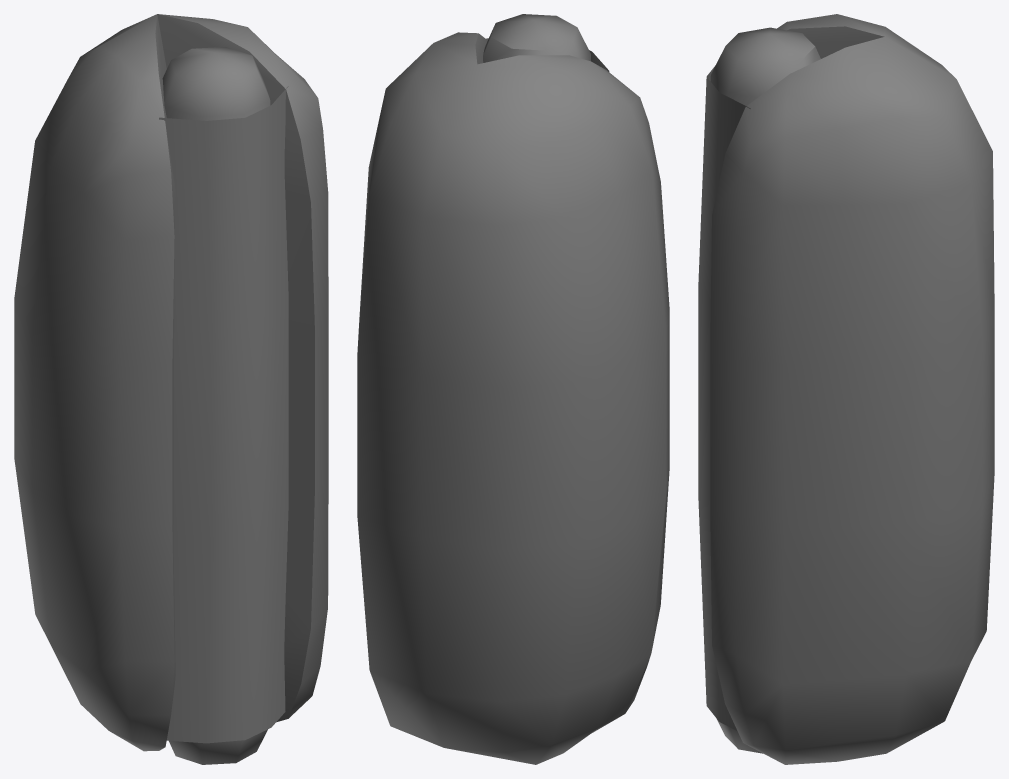
File: bread.fbx
3 views of the same model, side by side, from view 1: azimuth 30°, elevation 25°; view 2: azimuth 150°, elevation 25°; view 3: azimuth 270°, elevation 25° (orthographic).
Parts seen in each view (by area): view 1: node_id3; view 2: node_id3; view 3: node_id3.
Part boxes in pixels (x1=…): node_id3: x1=14, y1=14, x2=328, y2=764; node_id3: x1=357, y1=14, x2=669, y2=764; node_id3: x1=698, y1=14, x2=994, y2=764.
Size of the model in its own units: 0.1921 by 0.512 by 0.1925.
1 material, 1 textured.
